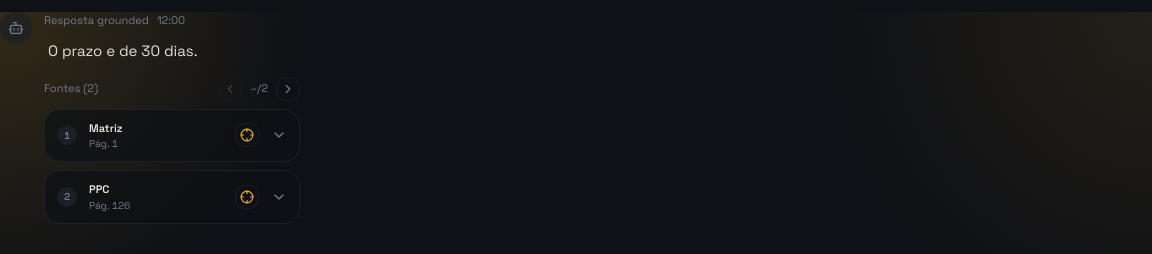
ChatMessageCard: fontes navegaveis › numera as fontes, e o clique e as setas percorrem a lista marcando a ativa
The image size is (1152, 254).
Expected: the text with test id "fonte-posicao" reads "–/2", [250,81,268,95]
Expected: the button with test id "fonte-anterior" is disabled, [218,76,242,100]
Click the button with test id "fonte-proxima": (288, 88) [276,76,300,100]
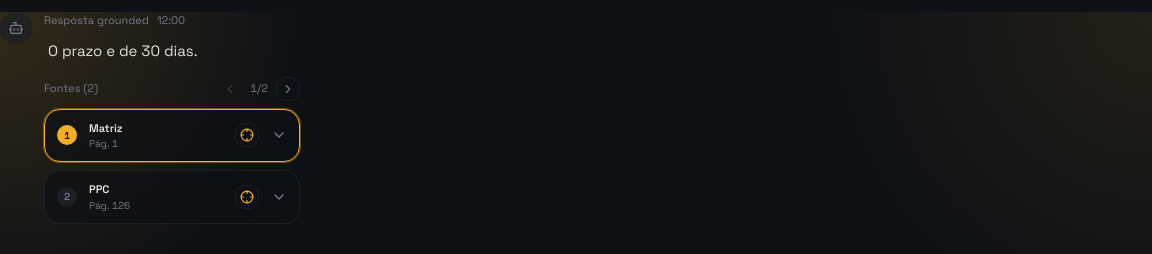
Result: the text with test id "fonte-posicao" reads "1/2" at [250,81,268,95]
Click the button with test id "fonte-proxima": (288, 88) [276,76,300,100]
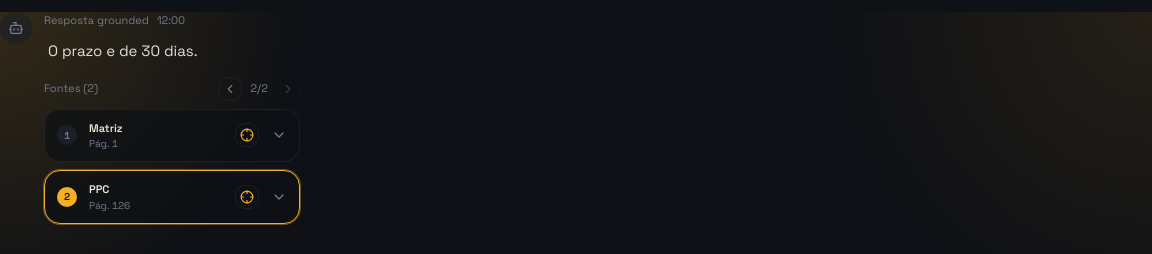
Result: the text with test id "fonte-posicao" reads "2/2" at [250,81,268,95]
Result: the button with test id "fonte-proxima" is disabled at [276,76,300,100]
// Clicar direto na fonte 1 volta a ativa para ela.
Click the button with test id "ver-no-documento" next to "Matriz": (247, 135) [235,123,259,147]
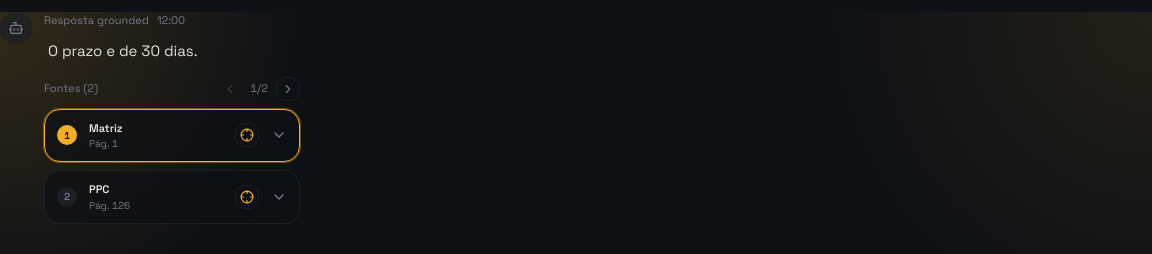
Result: the text with test id "fonte-posicao" reads "1/2" at [250,81,268,95]
